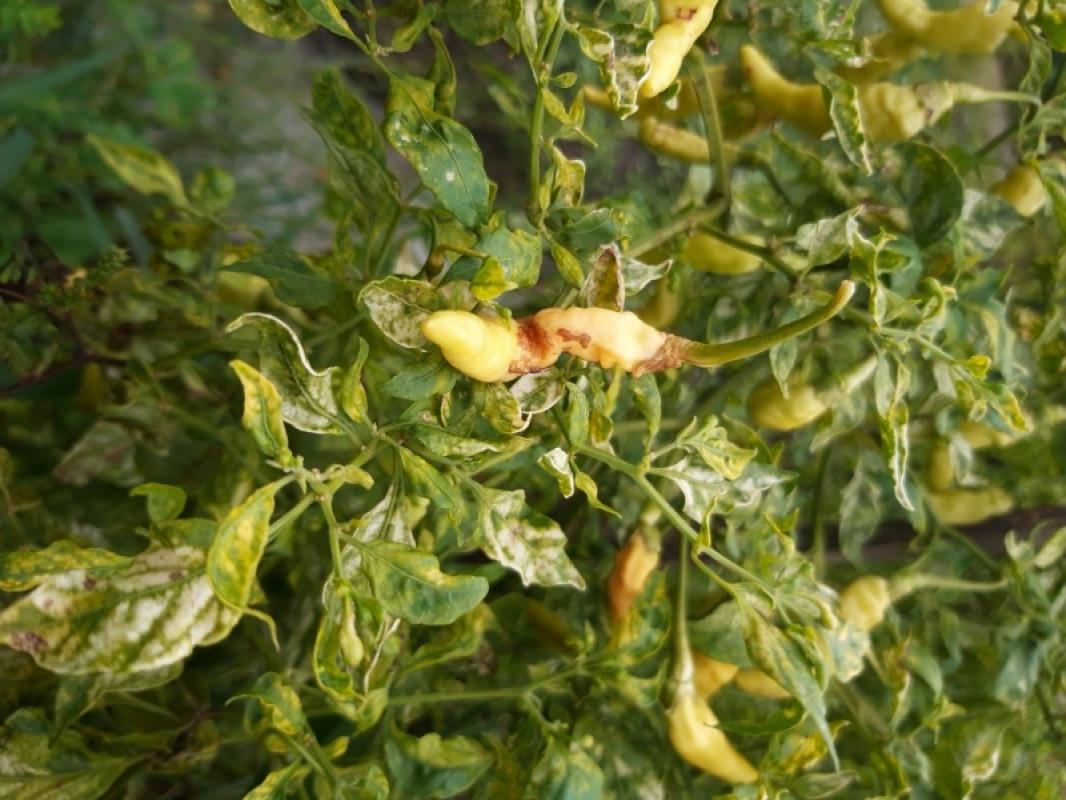antraknosa: (421, 305, 665, 383)
cabai_normal: (739, 43, 927, 146), (661, 691, 760, 786), (633, 1, 723, 101), (872, 1, 1018, 53), (603, 520, 661, 624), (744, 369, 820, 431), (683, 226, 767, 276)
